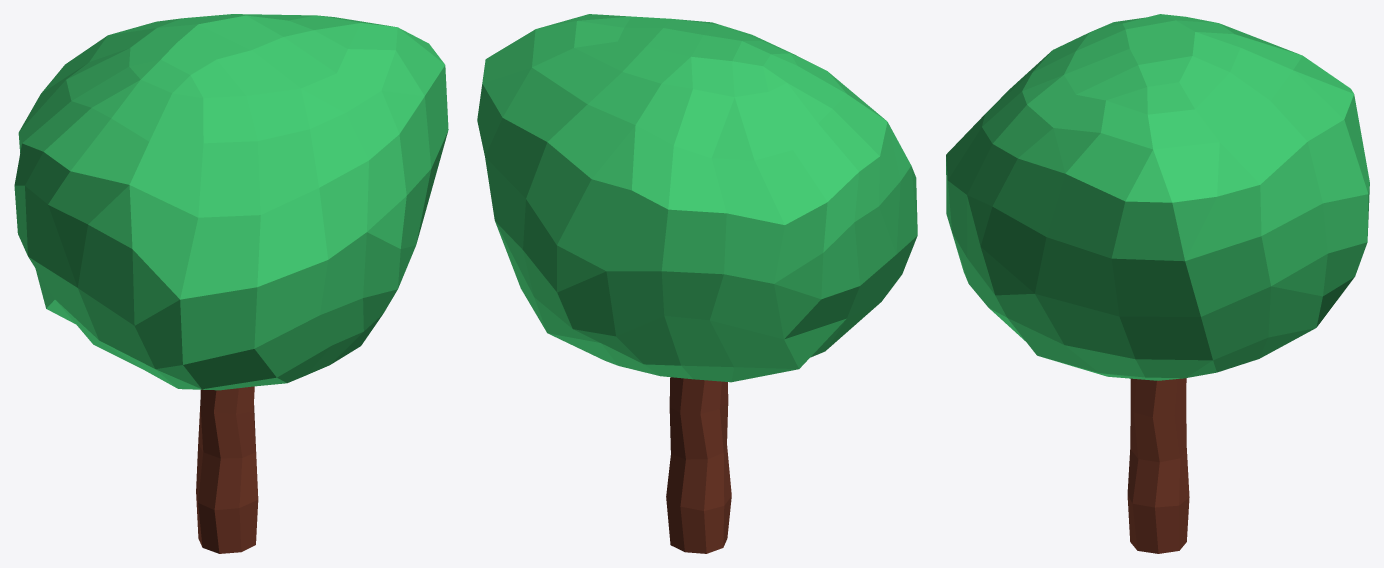
Rendered from maya_export_Tree3_v3.fbx.
3 views of the same model, side by side, from view 1: azimuth 30°, elevation 25°; view 2: azimuth 150°, elevation 25°; view 3: azimuth 270°, elevation 25° (orthographic).
Visible parts, largest first — view 1: Tree3_v3; view 2: Tree3_v3; view 3: Tree3_v3.
Part boxes in pixels (x1,y1,x2,y2): Tree3_v3: (14, 14, 448, 553); Tree3_v3: (477, 14, 917, 553); Tree3_v3: (946, 14, 1369, 553).
Size of the model in its own units: 5.97 by 7.38 by 5.61.
1 material, 1 textured.
